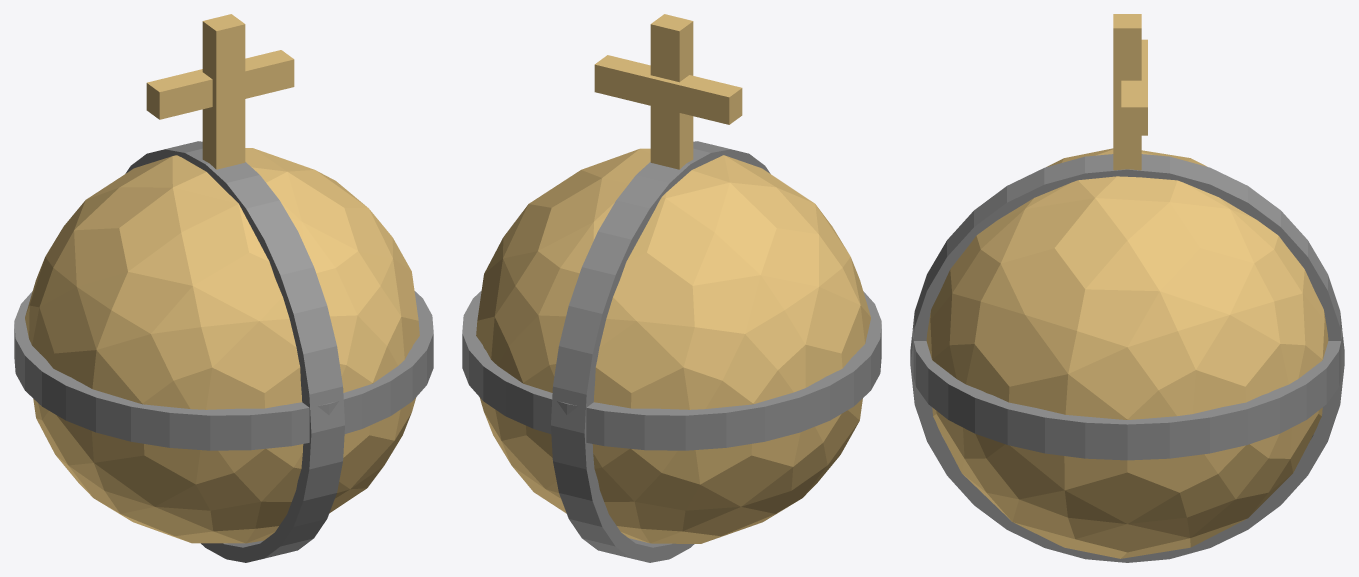
Rendered from Holy Grenade.fbx.
The picture shows the model from 3 angles, left to right: view 1: azimuth 30°, elevation 25°; view 2: azimuth 150°, elevation 25°; view 3: azimuth 270°, elevation 25°; orthographic projection. The views are drawn at different scales.
Visible parts, largest first — view 1: Circle.001; view 2: Circle.001; view 3: Circle.001.
Part boxes in pixels (x1=…): Circle.001: x1=14, y1=14, x2=433, y2=562; Circle.001: x1=462, y1=14, x2=881, y2=562; Circle.001: x1=910, y1=14, x2=1344, y2=562.
Bounding box in the file's own units: 195 × 266 × 196.
